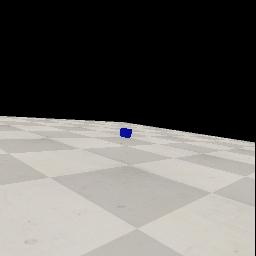box: (120, 128, 132, 138)
